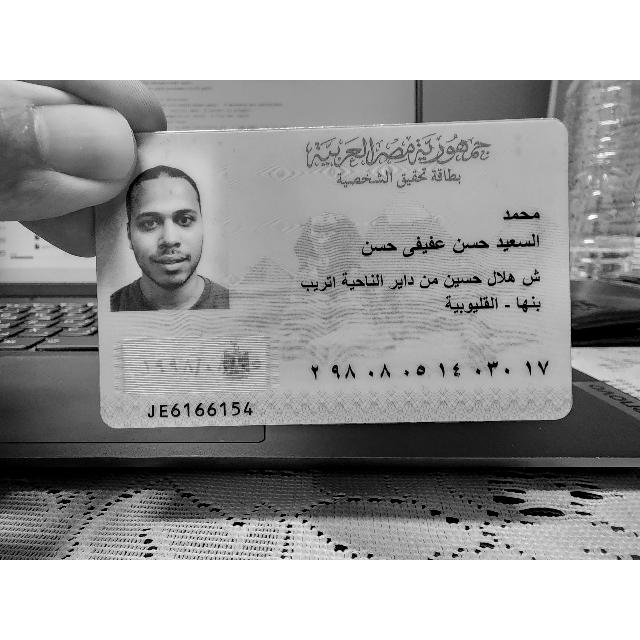id_card: (94, 119, 572, 429)
